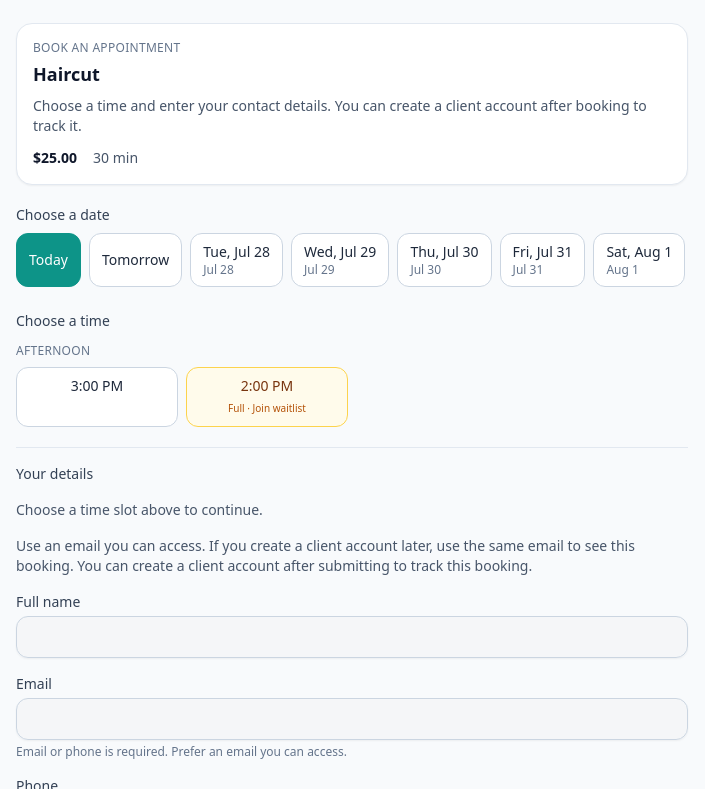
it: BookingPage waitlist › keeps a stable details form when selecting slots
Step 1. Click the button with test id "bookable-slot" → (97, 397), box [16,367,178,427]
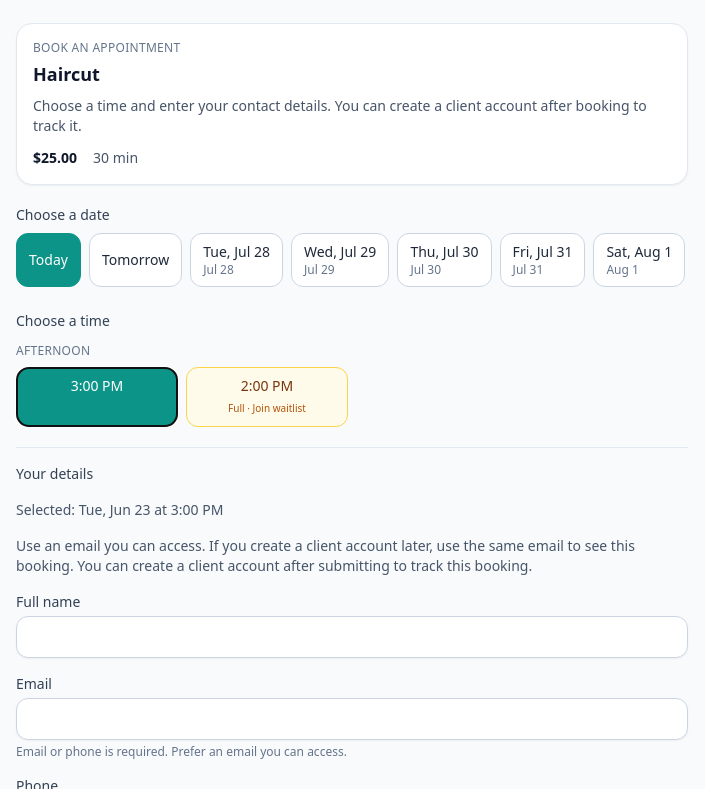
expect the text "Choose a time slot above to continue" is gone: met
Step 2. Click the button with test id "waitlist-slot" → (267, 397), box [186,367,348,427]
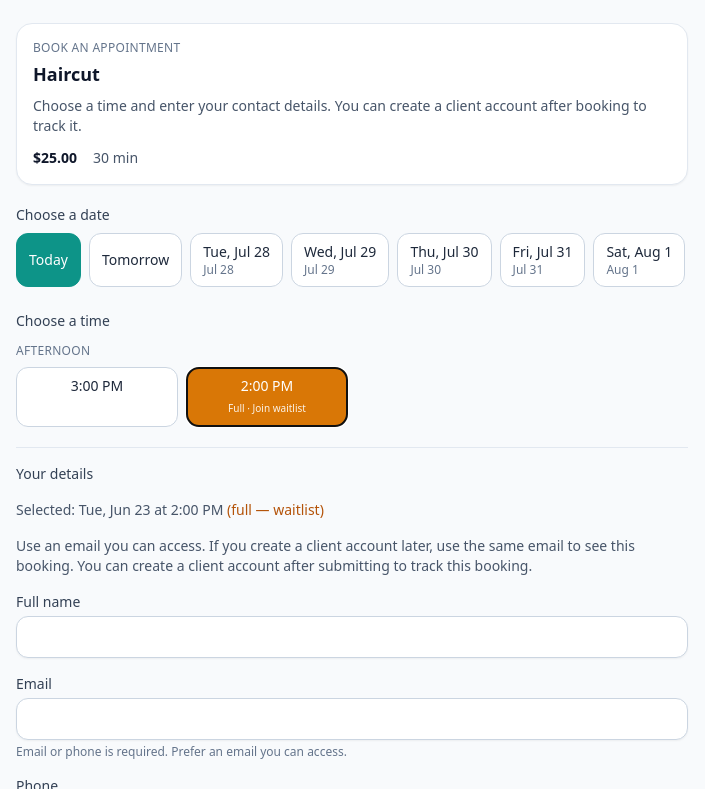
Step 3. Click the button with test id "bookable-slot" → (97, 397), box [16,367,178,427]
(page scrolled)
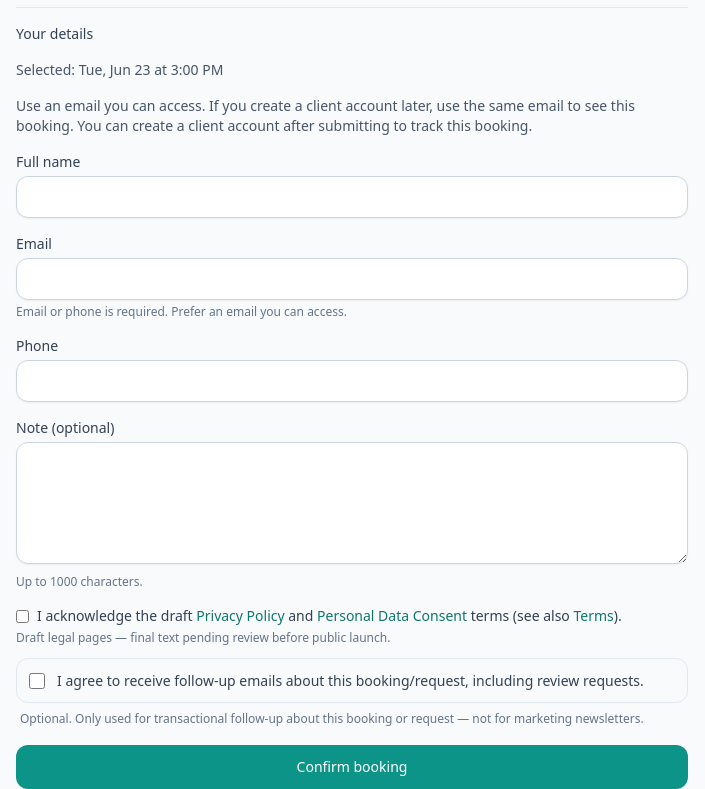
expect the button with test id "booking-submit" is shown: met, box [16,745,688,788]
